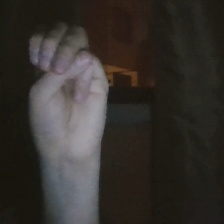M: (14, 17, 129, 169)
